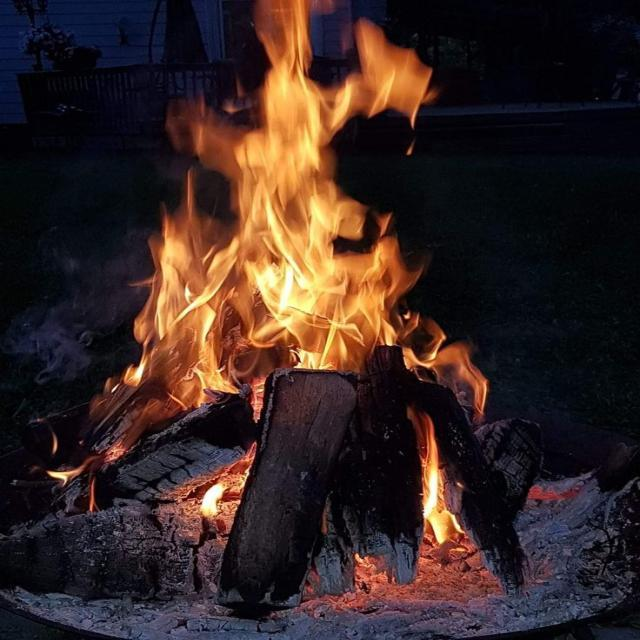Fire: (94, 0, 495, 538)
